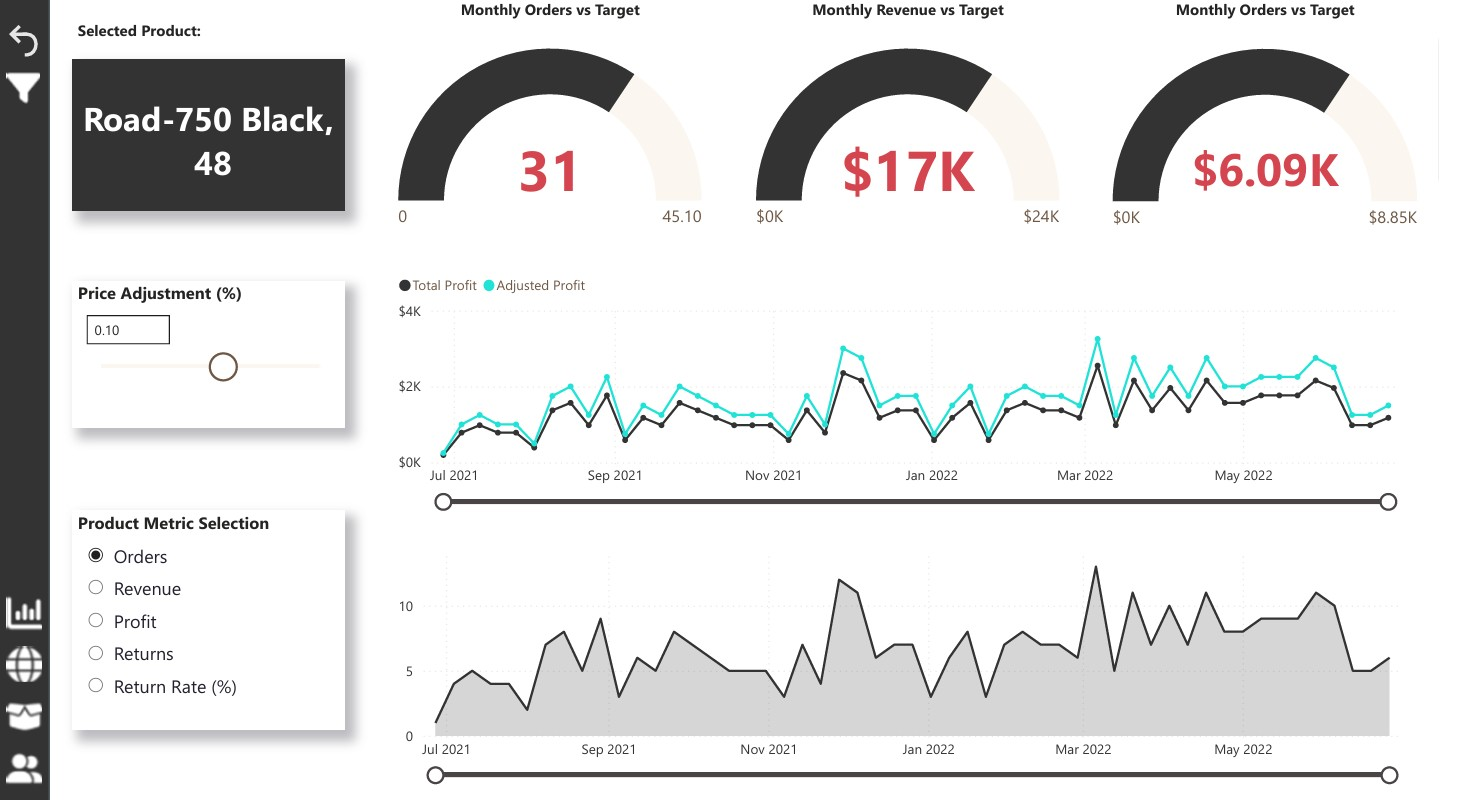

What the dashboard file says about the page in this screenshot:
{"tool":"powerbi","page":{"name":"Product Detail","canvas":[1280,720],"ordinal":2},"visuals":[{"type":"shape","box":[0,0,45,720],"z":0},{"type":"gauge","title":"Monthly Orders vs Target","fields":{"Y":["Measure Table.Total Orders"],"MaxValue":["Measure Table.Order Target"]},"box":[350.1,0,280,234.6],"z":1000},{"type":"actionButton","box":[2.5,617.9,40,40],"z":1000,"group":"g1"},{"type":"gauge","title":"Monthly Revenue vs Target","fields":{"Y":["Measure Table.Total Revenue"],"MaxValue":["Measure Table.Revenue Target"]},"box":[667.7,0,280,234.6],"z":2000},{"type":"actionButton","box":[2.5,526.2,40,40],"z":2000,"group":"g1"},{"type":"gauge","title":"Monthly Orders vs Target","fields":{"Y":["Measure Table.Total Profit"],"MaxValue":["Measure Table.Profit Target"]},"box":[985.3,0,280.3,235.8],"z":3000},{"type":"actionButton","box":[2.5,663.7,40,40],"z":3000,"group":"g1"},{"type":"lineChart","title":"Profit Trending","fields":{"Category":["Calendar Lookup.Date Hierarchy.Start of Year","Calendar Lookup.Date Hierarchy.Start of Month","Calendar Lookup.Date Hierarchy.Start of Week","Calendar Lookup.Date Hierarchy.Date"],"Y":["Measure Table.Total Profit","Measure Table.Adjusted Profit"]},"box":[350.1,234.6,915.5,223.8],"z":4000},{"type":"actionButton","box":[2.5,572,40,40],"z":4000,"group":"g1"},{"type":"areaChart","title":"Return Trending","fields":{"Y":["Measure Table.Total Orders"],"Category":["Calendar Lookup.Date Hierarchy.Start of Year","Calendar Lookup.Date Hierarchy.Start of Month","Calendar Lookup.Date Hierarchy.Start of Week","Calendar Lookup.Date Hierarchy.Date"]},"box":[350.1,478.8,916.7,222.6],"z":5000},{"type":"card","fields":{"Values":["Min(Product Lookup.ProductName)"]},"box":[65,54.1,241.8,134.7],"z":6000},{"type":"textbox","box":[64.5,13.6,163.6,31.8],"z":7000},{"type":"group","id":"g1","title":"Nav Buttons","box":[2.5,526.2,40,177.5],"z":8000},{"type":"actionButton","box":[3.4,59,37.6,39.3],"z":9000},{"type":"actionButton","box":[2.9,17.1,37.6,39.4],"z":10000},{"type":"slicer","title":"Price Adjustment (%)","fields":{"Values":["Price Adjustment (%).Price Adjustment (%)"]},"box":[65,251.4,241.8,129.9],"z":11000},{"type":"slicer","title":"Product Metric Selection","fields":{"Values":["Product Metric Selection.Product Metric Selection"]},"box":[65,454.7,241.8,194.9],"z":12000}]}

Visuals, with their boxes on the page's 1280x720 design canvas (x1, y1, x2, y2). These are canvas units, not pixel positions in the 1462x800 screenshot, which may show the page scaled, cropped or inside an application window:
shape: 0,0,45,720
"Monthly Orders vs Target" gauge: 350,0,630,235
actionButton: 2,618,42,658
"Monthly Revenue vs Target" gauge: 668,0,948,235
actionButton: 2,526,42,566
"Monthly Orders vs Target" gauge: 985,0,1266,236
actionButton: 2,664,42,704
"Profit Trending" lineChart: 350,235,1266,458
actionButton: 2,572,42,612
"Return Trending" areaChart: 350,479,1267,701
card - Min(Product Lookup.ProductName): 65,54,307,189
textbox: 64,14,228,45
"Nav Buttons" group: 2,526,42,704
actionButton: 3,59,41,98
actionButton: 3,17,40,56
"Price Adjustment (%)" slicer: 65,251,307,381
"Product Metric Selection" slicer: 65,455,307,650
